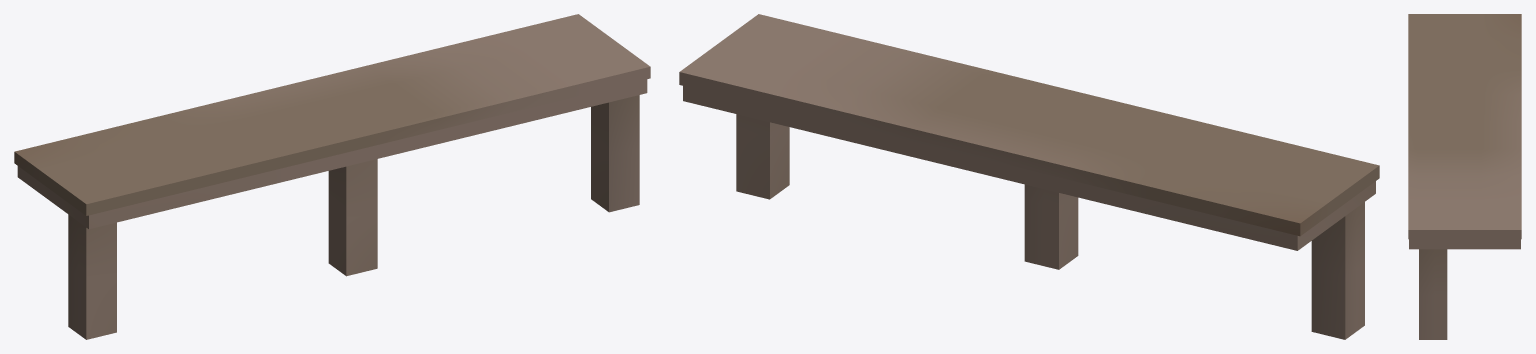
Rendered from house_door0b.fbx.
3 views of the same model, side by side, from view 1: azimuth 30°, elevation 25°; view 2: azimuth 150°, elevation 25°; view 3: azimuth 270°, elevation 25° (orthographic). The views are drawn at different scales.
Parts seen in each view (by area): view 1: house_door0b; view 2: house_door0b; view 3: house_door0b.
Part boxes in pixels (x1=…): house_door0b: x1=14, y1=14, x2=650, y2=339; house_door0b: x1=679, y1=14, x2=1379, y2=339; house_door0b: x1=1408, y1=14, x2=1521, y2=339.
Bounding box in the file's own units: 1.7 × 0.4091 × 0.3758.
